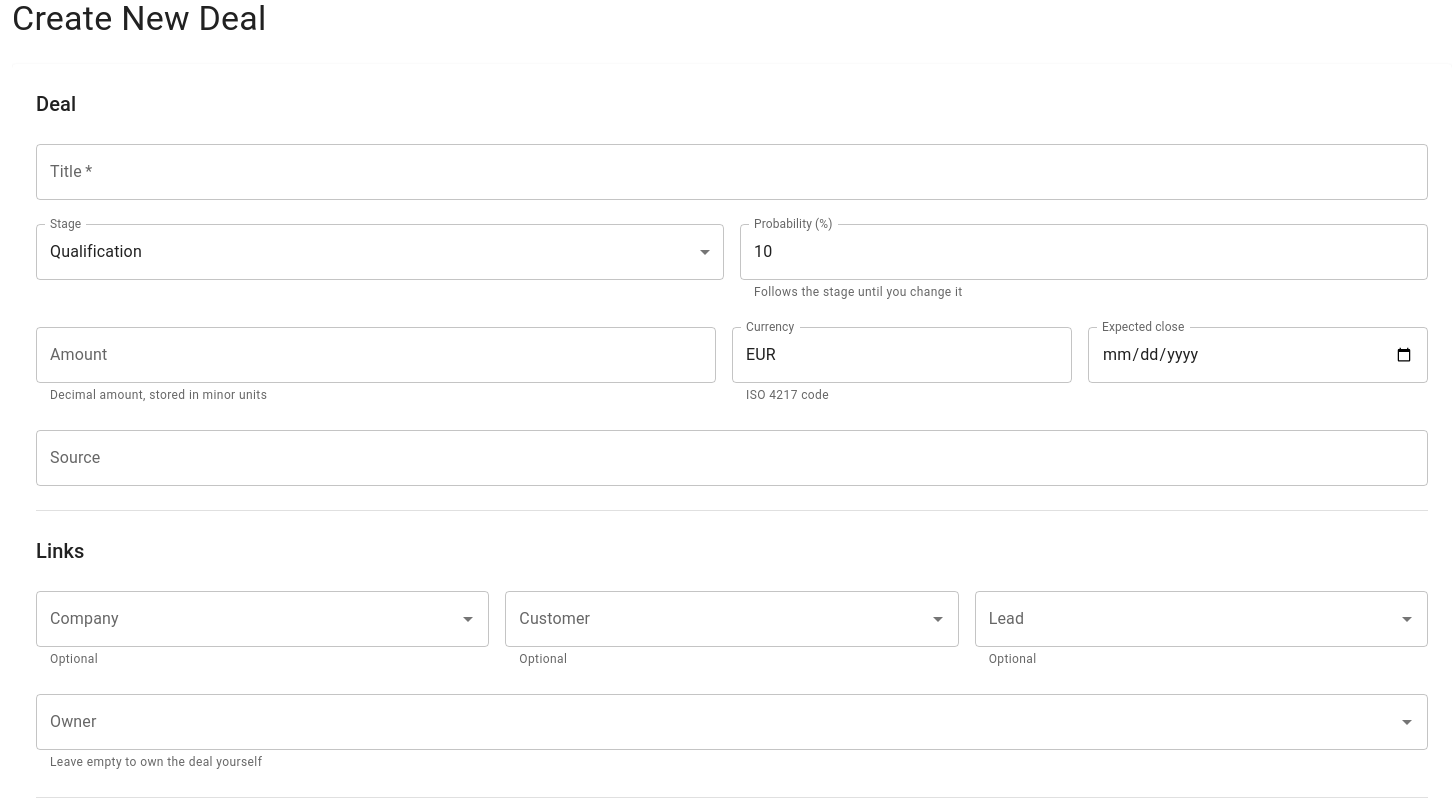
DealForm › create › requires a title and refuses a malformed amount, currency and probability
Step 1. Type "12,5" into the field labelled "Amount" → (376, 355), box [36, 327, 716, 383]
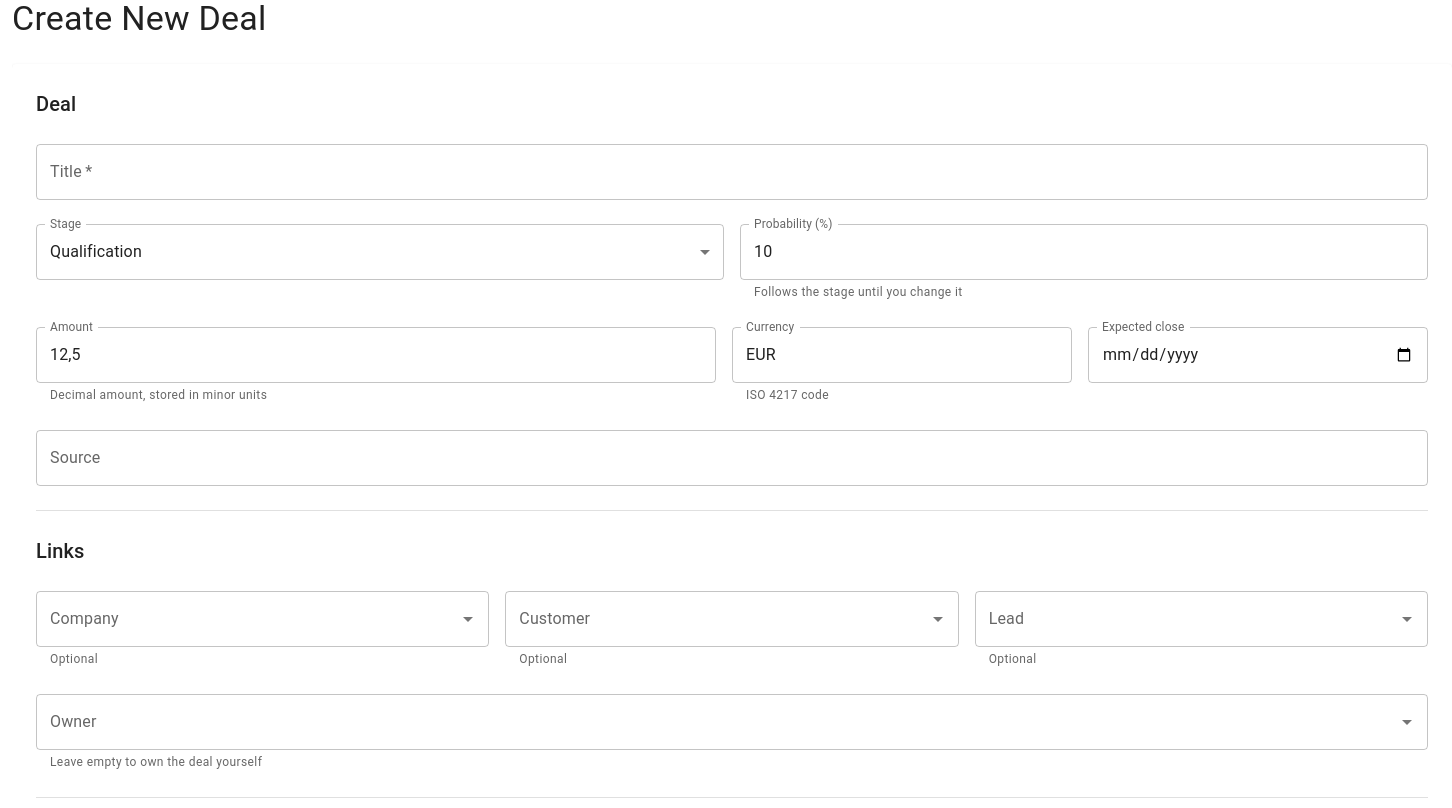
Step 2. Replace the text in the field labelled "Currency" with "EU" → (902, 355), box [732, 327, 1072, 383]
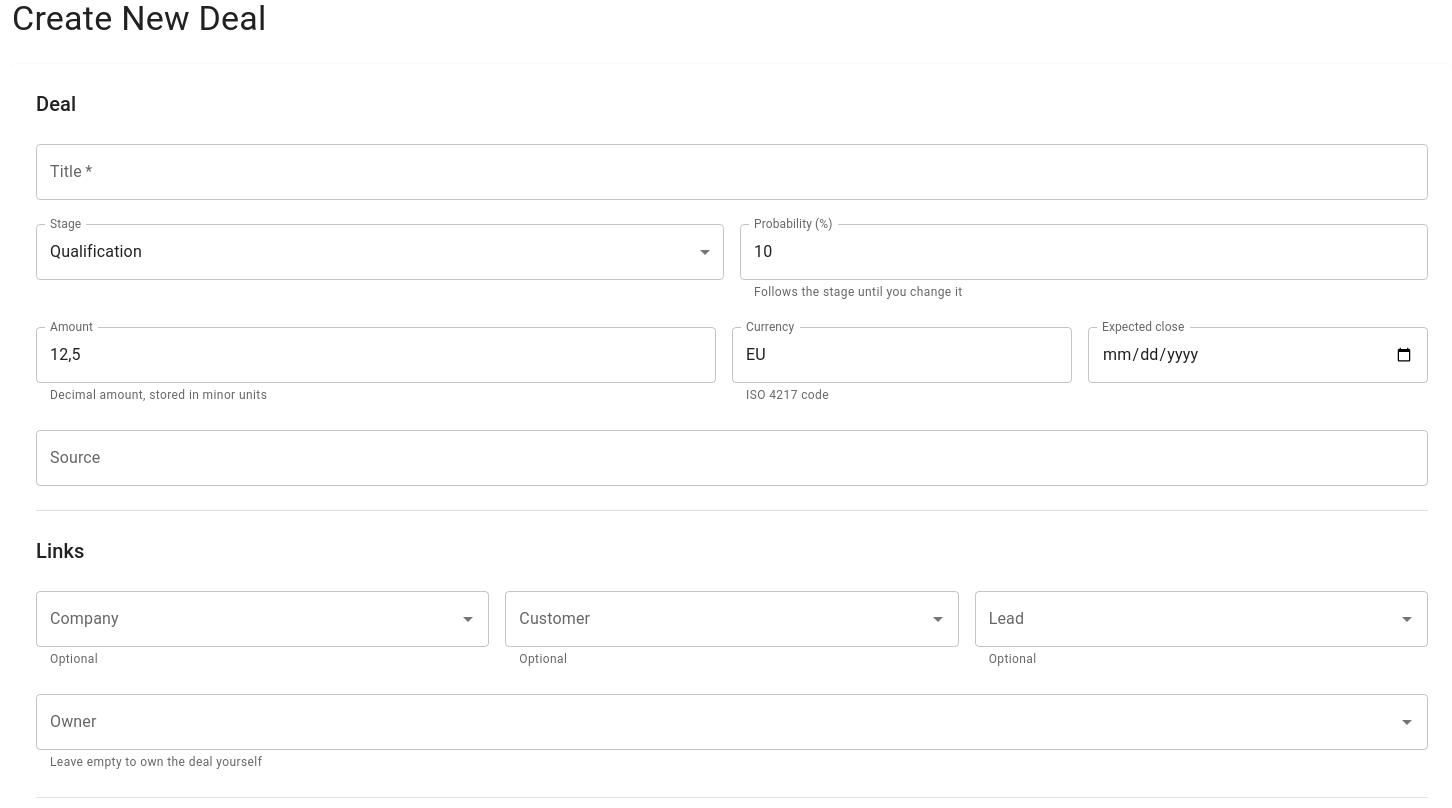
Step 3. Replace the text in the number field labelled "Probability (%)" with "150" → (1084, 252), box [740, 224, 1428, 280]
(page scrolled)
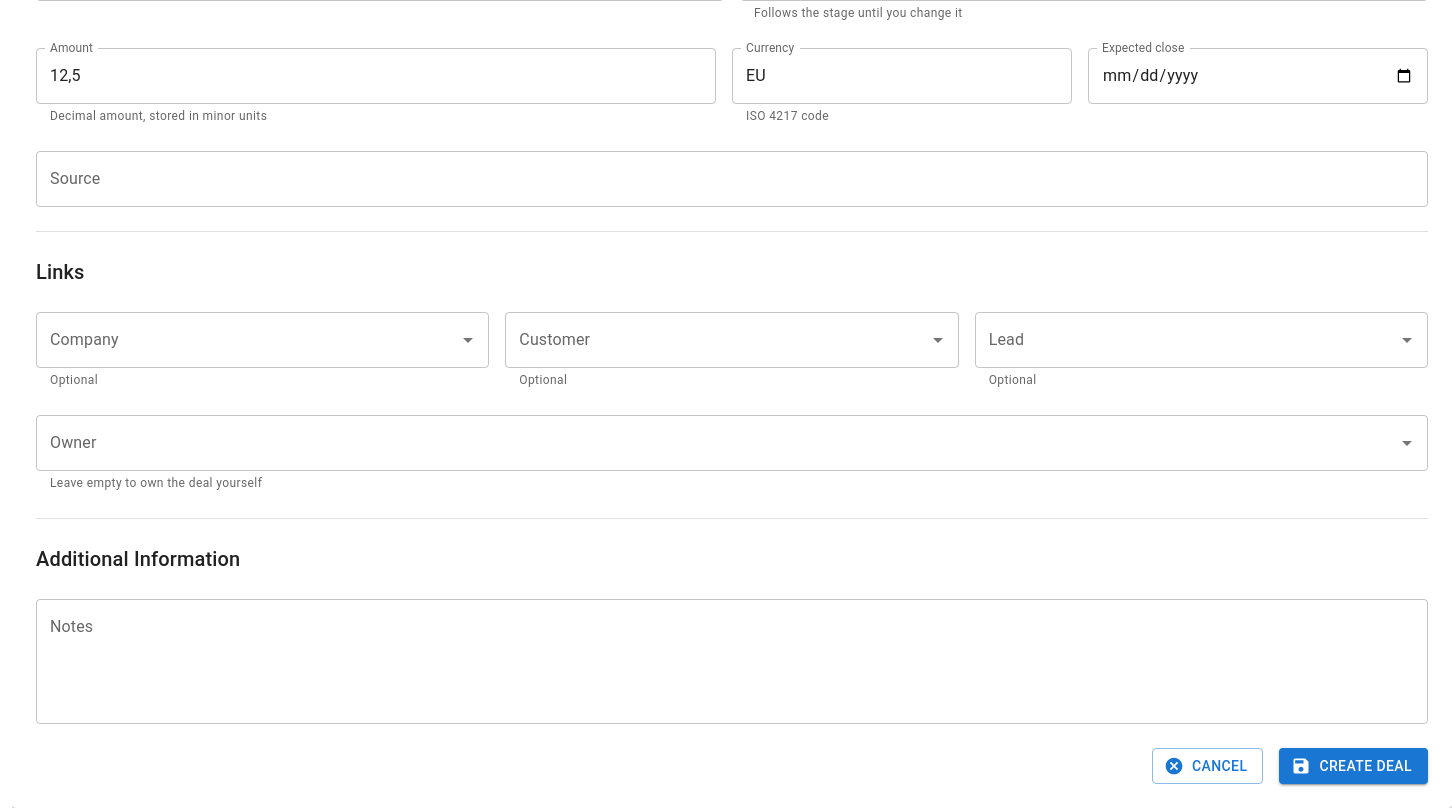
Step 4. Click the button "Create Deal" → (1354, 766), box [1279, 748, 1428, 784]
(page scrolled)
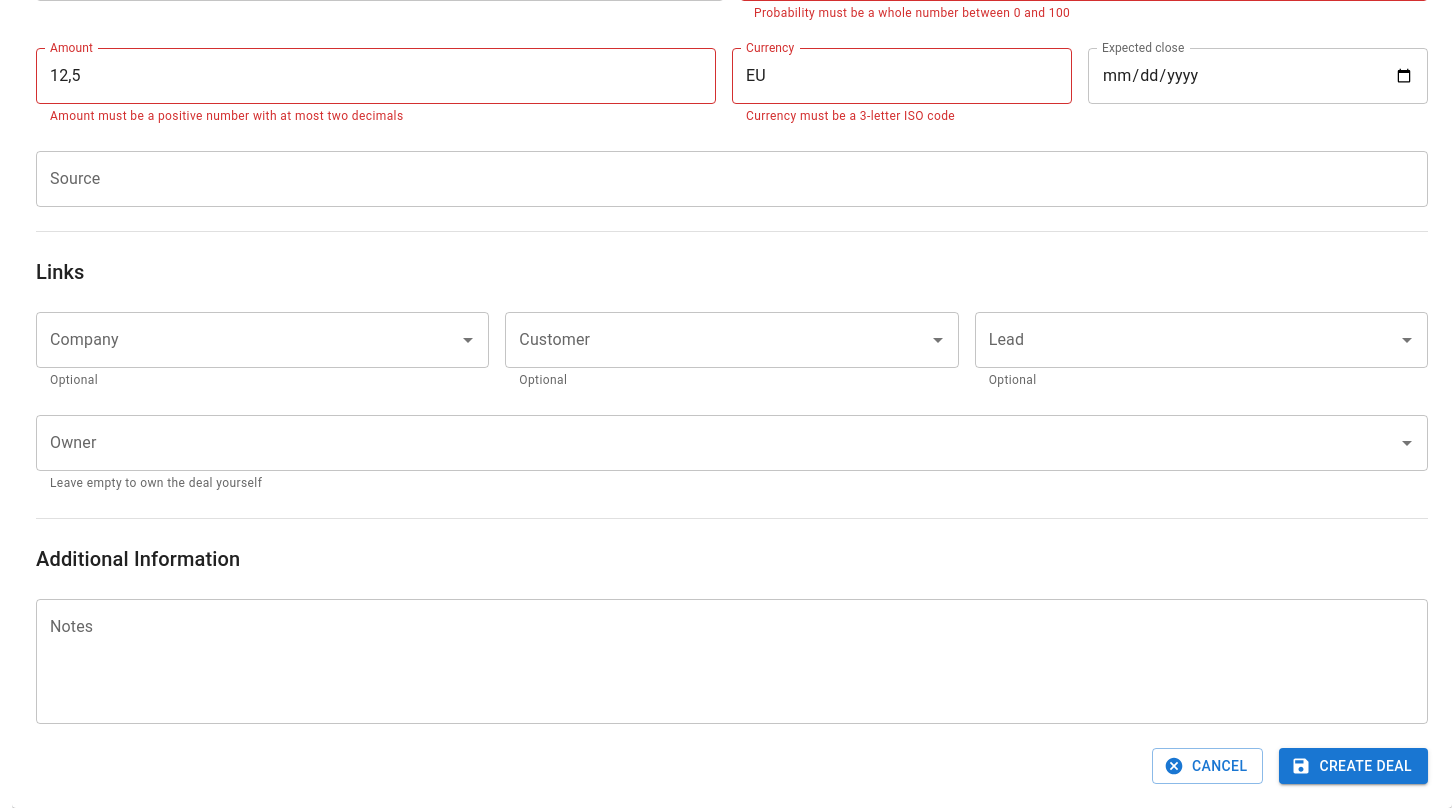
Result: the text "Amount must be a positive number with at most two decimals" is shown at [50, 109, 404, 123]
Result: the text "Currency must be a 3-letter ISO code" is shown at [746, 109, 955, 123]
Result: the text "Probability must be a whole number between 0 and 100" is shown at [754, 6, 1070, 20]
